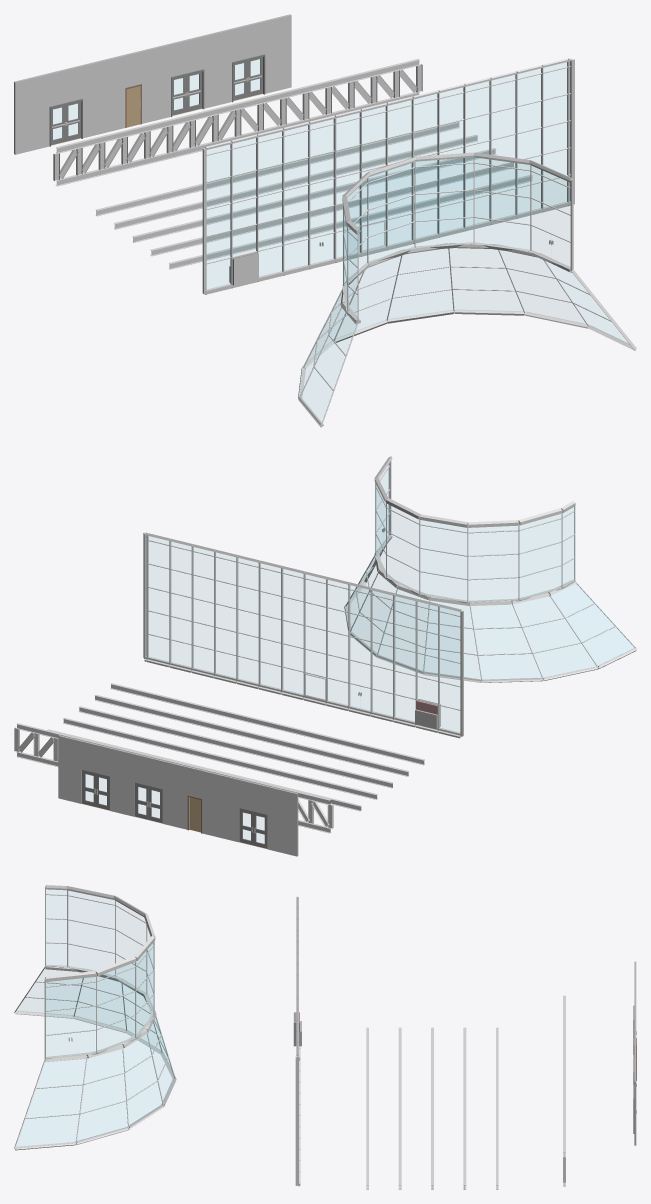
3 views of the same model, one above another, from view 1: azimuth 30°, elevation 25°; view 2: azimuth 150°, elevation 25°; view 3: azimuth 270°, elevation 25° (orthographic). The views are drawn at different scales.
Visible parts, largest first — view 1: 1Ci5AoYTz1Qu$H1Q1RKhsY, 1Ci5AoYTz1Qu$H1Q1RKgW3, 1Ci5AoYTz1Qu$H1Q1RKgcK, 1Ci5AoYTz1Qu$H1Q1RKgcI, 1Ci5AoYTz1Qu$H1Q1RKgcg, 1Ci5AoYTz1Qu$H1Q1RKgcM, 1Ci5AoYTz1Qu$H1Q1RKgce, 1Ci5AoYTz1Qu$H1Q1RKgW1, 1Ci5AoYTz1Qu$H1Q1RKk9d, 1Ci5AoYTz1Qu$H1Q1RKfIN, 01x3NLu5f5$fku4q2LsQ7x, 2xH7EIIEbCzRb2Ef1g8hgS; view 2: 1Ci5AoYTz1Qu$H1Q1RKhsY, 1Ci5AoYTz1Qu$H1Q1RKgcK, 1Ci5AoYTz1Qu$H1Q1RKgcg, 1Ci5AoYTz1Qu$H1Q1RKgcM, 1Ci5AoYTz1Qu$H1Q1RKgce, 1Ci5AoYTz1Qu$H1Q1RKgW3, 1Ci5AoYTz1Qu$H1Q1RKgcI, 01x3NLu5f5$fku4q2LsQ7x, 1Ci5AoYTz1Qu$H1Q1RKfIN, 1Ci5AoYTz1Qu$H1Q1RKk9d; view 3: 1Ci5AoYTz1Qu$H1Q1RKgcK, 1Ci5AoYTz1Qu$H1Q1RKgce, 1Ci5AoYTz1Qu$H1Q1RKhsY, 1Ci5AoYTz1Qu$H1Q1RKgW3, 1Ci5AoYTz1Qu$H1Q1RKgcI, 1Ci5AoYTz1Qu$H1Q1RKgcM, 1Ci5AoYTz1Qu$H1Q1RKgcg.
Boxes of the visible parts, x1,y1,x2,y2 form: 1Ci5AoYTz1Qu$H1Q1RKhsY: [14, 14, 291, 154]; 1Ci5AoYTz1Qu$H1Q1RKgW3: [56, 59, 419, 153]; 1Ci5AoYTz1Qu$H1Q1RKgcK: [114, 134, 477, 229]; 1Ci5AoYTz1Qu$H1Q1RKgcI: [96, 121, 459, 216]; 1Ci5AoYTz1Qu$H1Q1RKgcg: [169, 175, 532, 269]; 1Ci5AoYTz1Qu$H1Q1RKgcM: [132, 148, 496, 242]; 1Ci5AoYTz1Qu$H1Q1RKgce: [150, 162, 514, 256]; 1Ci5AoYTz1Qu$H1Q1RKgW1: [56, 92, 419, 186]; 1Ci5AoYTz1Qu$H1Q1RKk9d: [232, 54, 265, 102]; 1Ci5AoYTz1Qu$H1Q1RKfIN: [49, 98, 82, 146]; 01x3NLu5f5$fku4q2LsQ7x: [171, 69, 204, 117]; 2xH7EIIEbCzRb2Ef1g8hgS: [125, 84, 141, 127]; 1Ci5AoYTz1Qu$H1Q1RKhsY: [58, 735, 298, 856]; 1Ci5AoYTz1Qu$H1Q1RKgcK: [63, 717, 377, 799]; 1Ci5AoYTz1Qu$H1Q1RKgcg: [110, 683, 424, 765]; 1Ci5AoYTz1Qu$H1Q1RKgcM: [79, 706, 393, 788]; 1Ci5AoYTz1Qu$H1Q1RKgce: [94, 694, 408, 776]; 1Ci5AoYTz1Qu$H1Q1RKgW3: [16, 723, 330, 805]; 1Ci5AoYTz1Qu$H1Q1RKgcI: [47, 729, 361, 811]; 01x3NLu5f5$fku4q2LsQ7x: [134, 782, 162, 823]; 1Ci5AoYTz1Qu$H1Q1RKfIN: [239, 808, 267, 848]; 1Ci5AoYTz1Qu$H1Q1RKk9d: [82, 770, 109, 810]; 1Ci5AoYTz1Qu$H1Q1RKgcK: [463, 1027, 466, 1189]; 1Ci5AoYTz1Qu$H1Q1RKgce: [398, 1027, 401, 1189]; 1Ci5AoYTz1Qu$H1Q1RKhsY: [634, 961, 636, 1145]; 1Ci5AoYTz1Qu$H1Q1RKgW3: [563, 995, 565, 1157]; 1Ci5AoYTz1Qu$H1Q1RKgcI: [496, 1027, 498, 1189]; 1Ci5AoYTz1Qu$H1Q1RKgcM: [431, 1027, 433, 1189]; 1Ci5AoYTz1Qu$H1Q1RKgcg: [366, 1027, 368, 1189].
Bounding box in the file's own units: 23.88 × 9.54 × 35.16.
